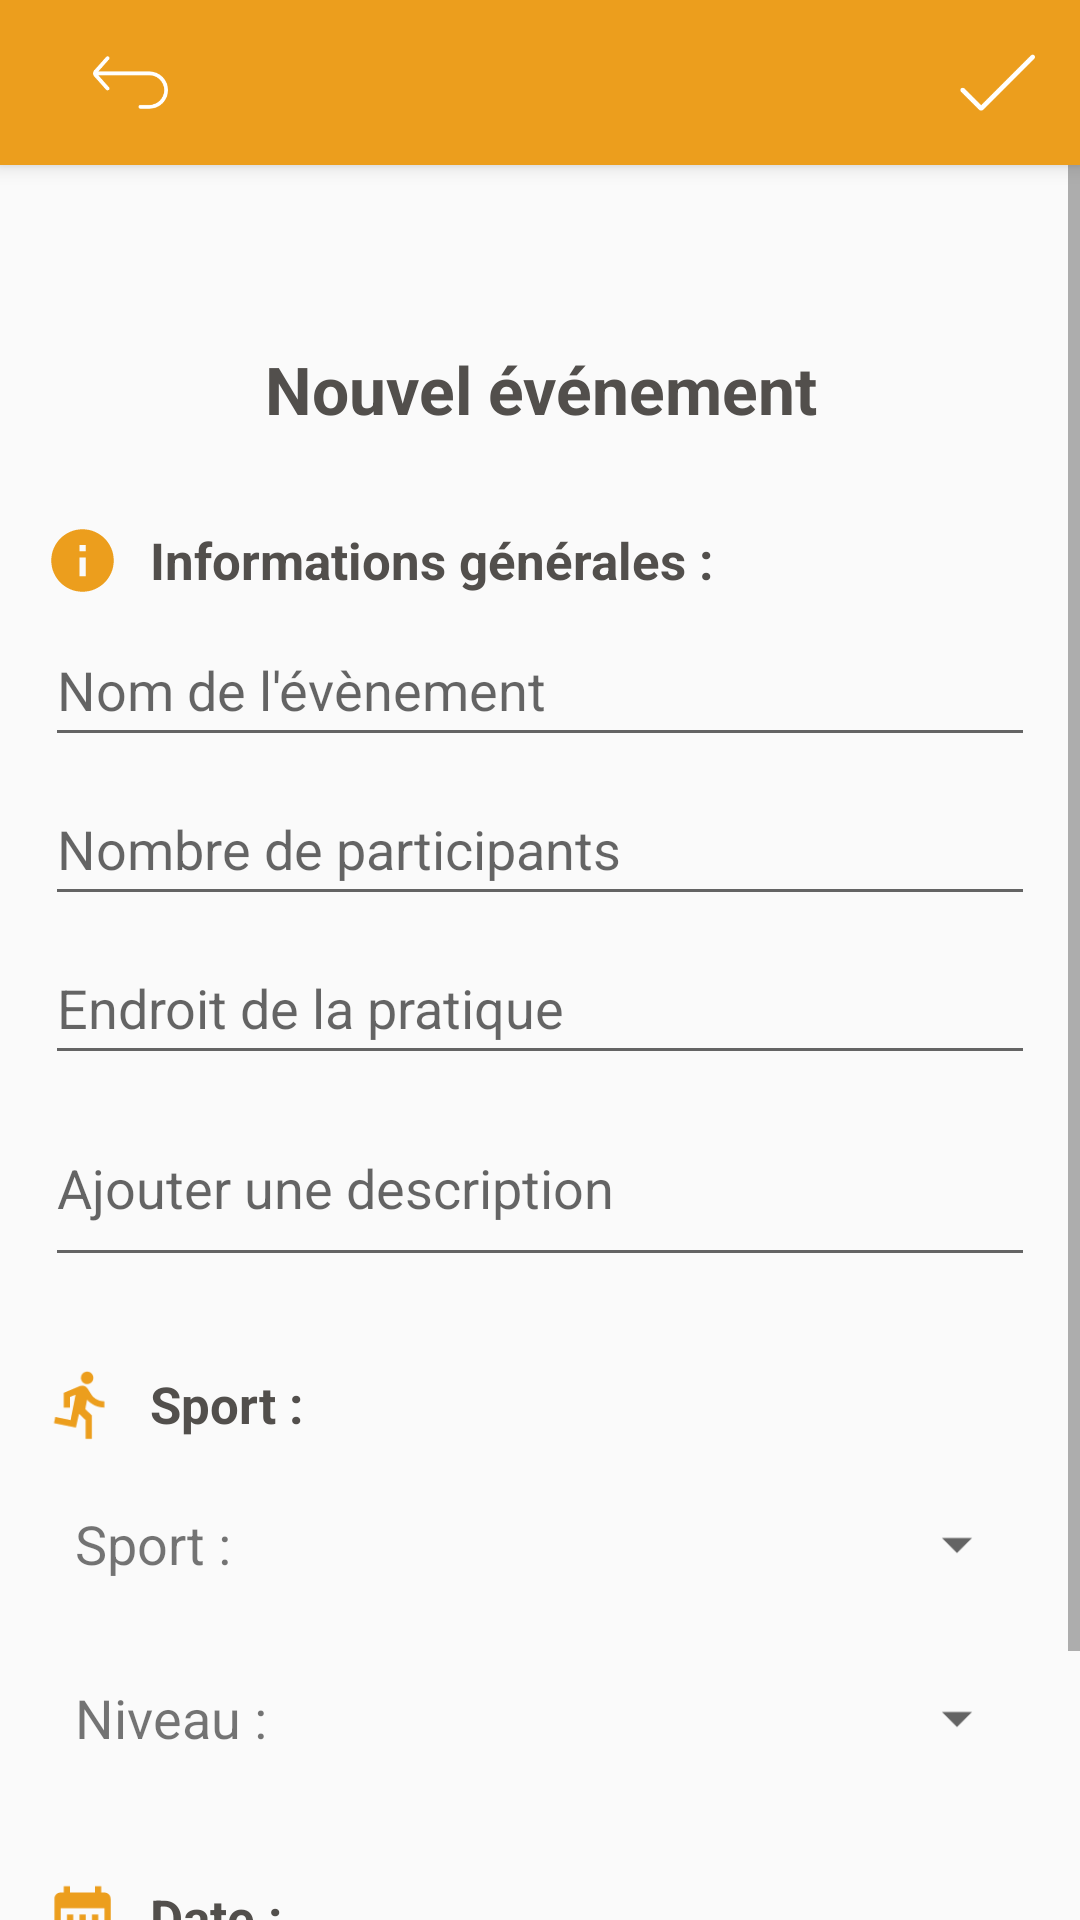

Icons on this 1080*1920 Android screen, each with its box as bbox=(x1, y1, x2, y2):
checked: bbox=(960, 54, 1035, 111)
directions run: bbox=(53, 1371, 105, 1439)
returned: bbox=(93, 56, 168, 109)
